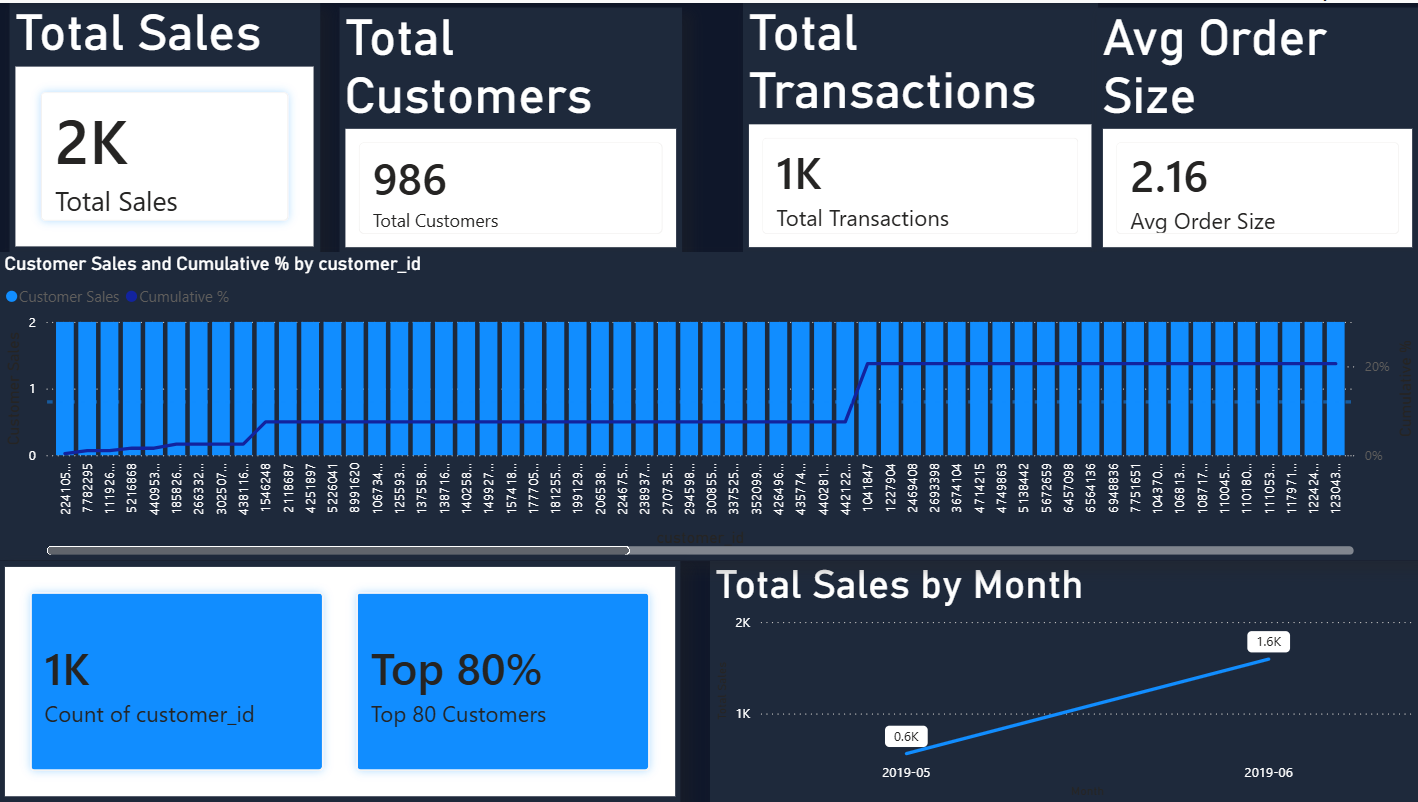

The page's visual inventory and layout, read from the dashboard file:
{"tool":"powerbi","page":{"name":"Page 1","canvas":[1280,720],"ordinal":0},"visuals":[{"type":"cardVisual","title":"Total Sales","fields":{"Data":["basket_details.Total Sales"]},"box":[9.4,0,279.7,224.9],"z":0},{"type":"cardVisual","title":"Total Transactions","fields":{"Data":["basket_details.Total Transactions"]},"box":[670,0,319.8,225.2],"z":1000},{"type":"cardVisual","title":"Total Customers","fields":{"Data":["basket_details.Total Customers"]},"box":[306.6,3.8,308.5,221.4],"z":2000},{"type":"cardVisual","title":"Avg Order Size","fields":{"Data":["basket_details.Avg Order Size"]},"box":[989.8,3.8,289.6,221.4],"z":3000},{"type":"lineChart","fields":{"Category":["basket_details.Month"],"Y":["basket_details.Total Sales"]},"box":[640.6,502.7,638.7,217.3],"z":4000},{"type":"lineClusteredColumnComboChart","fields":{"Y":["basket_details.Customer Sales"],"Category":["basket_details.customer_id"],"Y2":["basket_details.Cumulative %"]},"box":[0,224.9,1279.4,277.8],"z":5000},{"type":"cardVisual","fields":{"Data":["CountNonNull(basket_details.customer_id)","basket_details.Top 80 Customers"]},"box":[0,502.7,614.2,217.3],"z":6000}]}

Visuals, with their boxes in screenshot pixels (x1, y1, x2, y2), scaled from the page's 1280x720 canvas onto the 1418x802 screenshot:
"Total Sales" cardVisual: [10, 0, 320, 251]
"Total Transactions" cardVisual: [742, 0, 1097, 251]
"Total Customers" cardVisual: [340, 4, 681, 251]
"Avg Order Size" cardVisual: [1097, 4, 1417, 251]
lineChart - basket_details.Month x basket_details.Total Sales: [710, 560, 1417, 801]
lineClusteredColumnComboChart - basket_details.Customer Sales x basket_details.customer_id: [0, 251, 1417, 560]
cardVisual - CountNonNull(basket_details.customer_id) x basket_details.Top 80 Customers: [0, 560, 680, 801]
